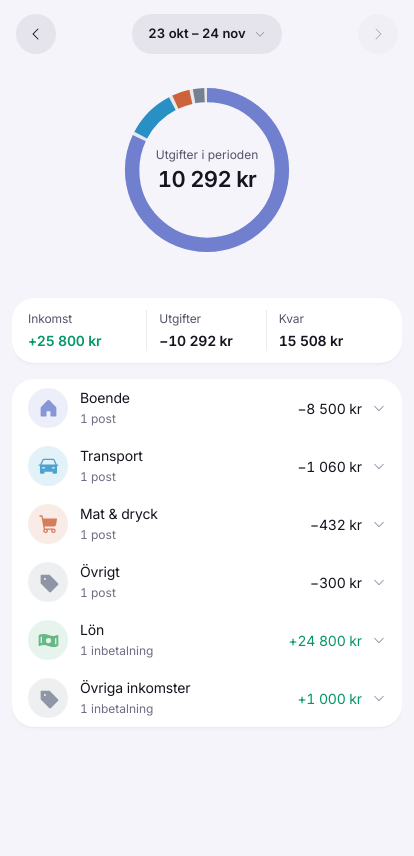
analys – periodväljaren › det går inte att backa längre än fem perioder
Click the button named "Föregående period" at (36, 34), box [16,14,56,54]
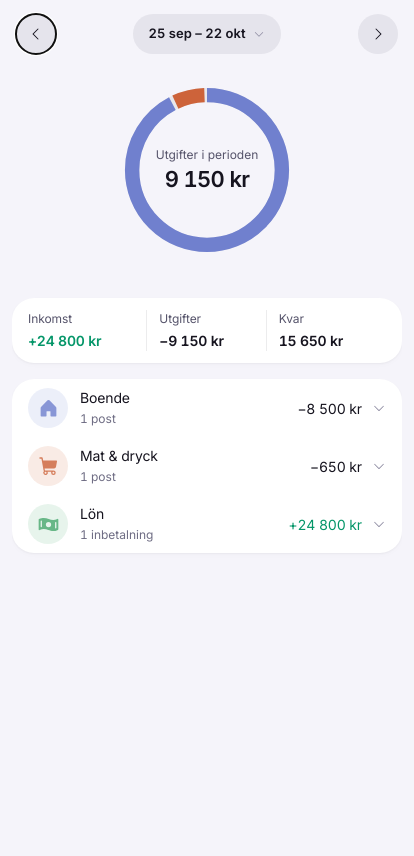
Click the button named "Föregående period" at (36, 34), box [16,14,56,54]
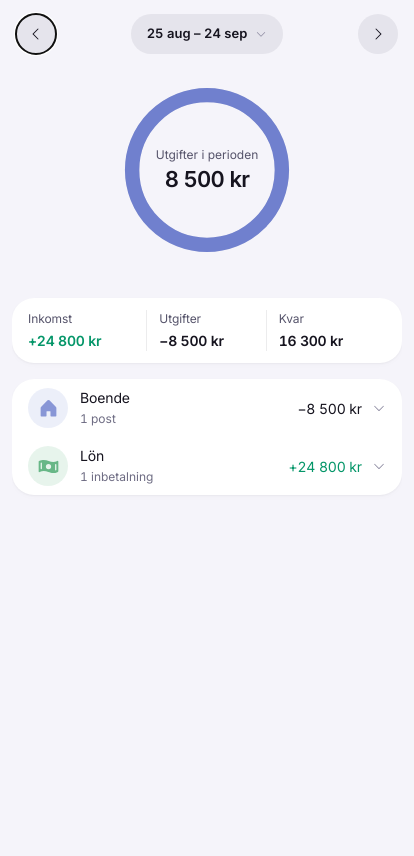
Click the button named "Föregående period" at (36, 34), box [16,14,56,54]
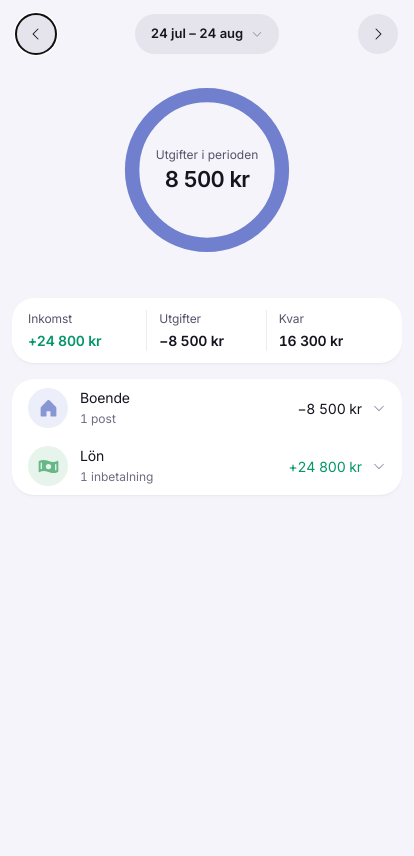
Click the button named "Föregående period" at (36, 34), box [16,14,56,54]
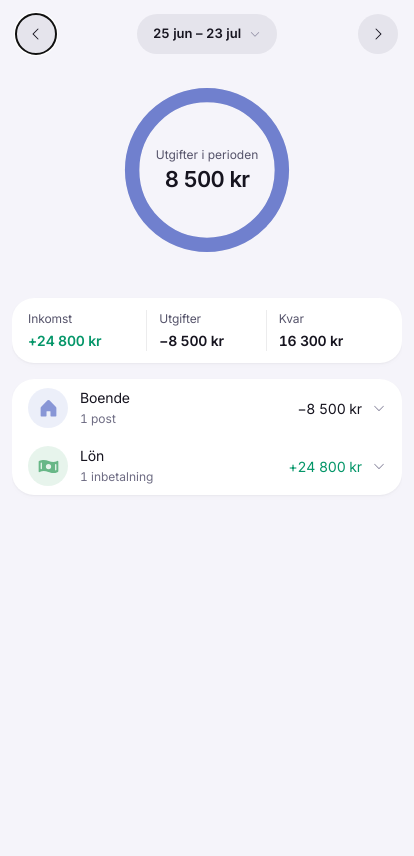
Click the button named "Föregående period" at (36, 34), box [16,14,56,54]
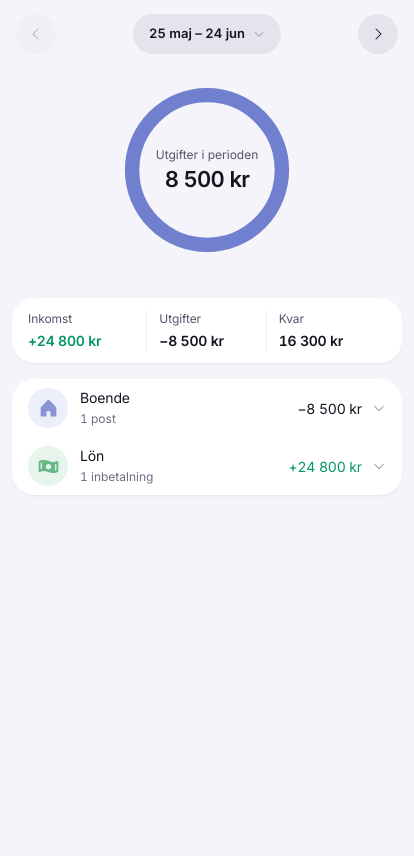
Check: the button named "Föregående period" is disabled, box [16,14,56,54]
